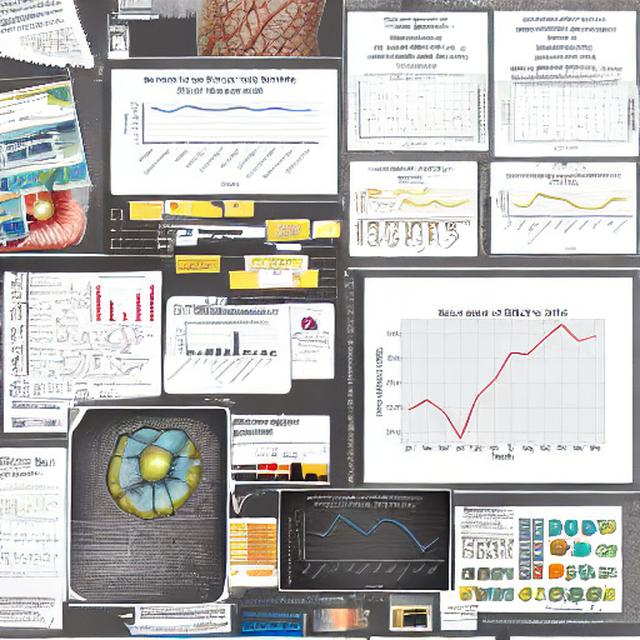Graph: (368, 282, 631, 479), (118, 72, 320, 191), (284, 492, 449, 590), (491, 170, 635, 251), (347, 71, 476, 148), (166, 317, 281, 391), (78, 274, 160, 329), (6, 492, 61, 529)
